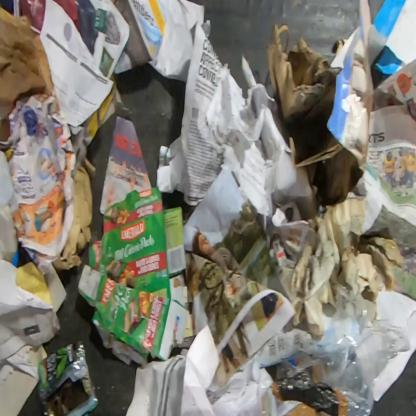cardboard: (77, 184, 196, 369), (266, 22, 364, 205), (327, 0, 375, 168), (0, 5, 55, 142), (52, 154, 97, 271), (0, 368, 40, 415), (28, 343, 48, 368)
soft_plastic: (274, 282, 411, 415), (37, 340, 100, 415), (270, 378, 346, 416)
